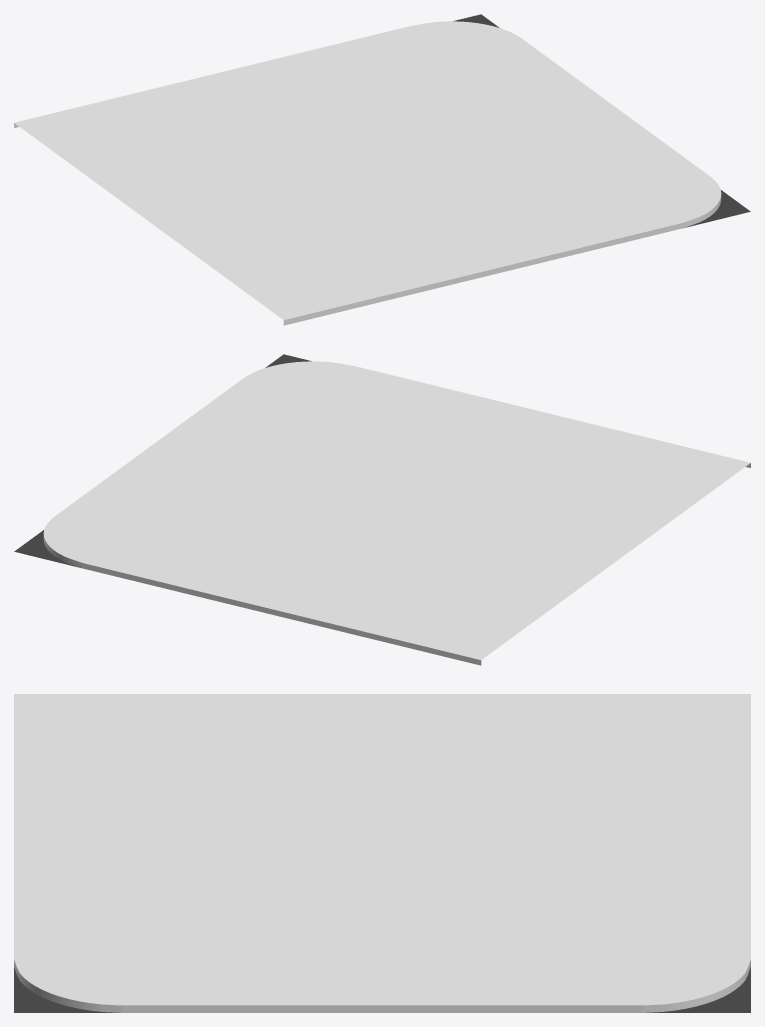
Rendered from pavement intersection dual edge.fbx.
3 views of the same model, one above another, from view 1: azimuth 30°, elevation 25°; view 2: azimuth 150°, elevation 25°; view 3: azimuth 270°, elevation 25° (orthographic). The views are drawn at different scales.
Visible parts, largest first — view 1: pavement_intersection_dual_edge; view 2: pavement_intersection_dual_edge; view 3: pavement_intersection_dual_edge.
Boxes of the visible parts, x1,y1,x2,y2 form: pavement_intersection_dual_edge: (14, 14, 750, 325); pavement_intersection_dual_edge: (14, 354, 750, 665); pavement_intersection_dual_edge: (14, 694, 750, 1012).
Size of the model in its own units: 1000 by 11.2 by 1000.
